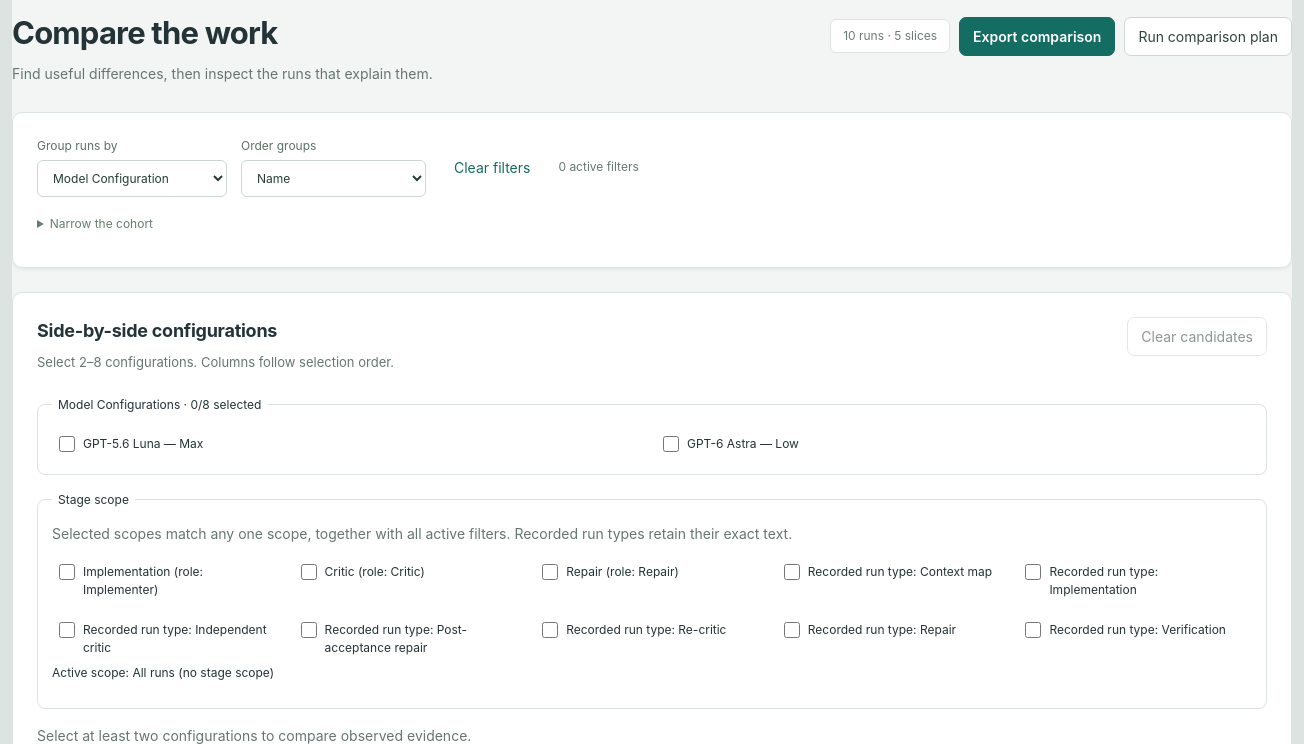
Test: analytics workspace controls and inspection › updates charts with composed filters and exports the exact date/outcome scope
Click the heading "Narrow the cohort" at point(101, 224), box [50, 216, 153, 231]
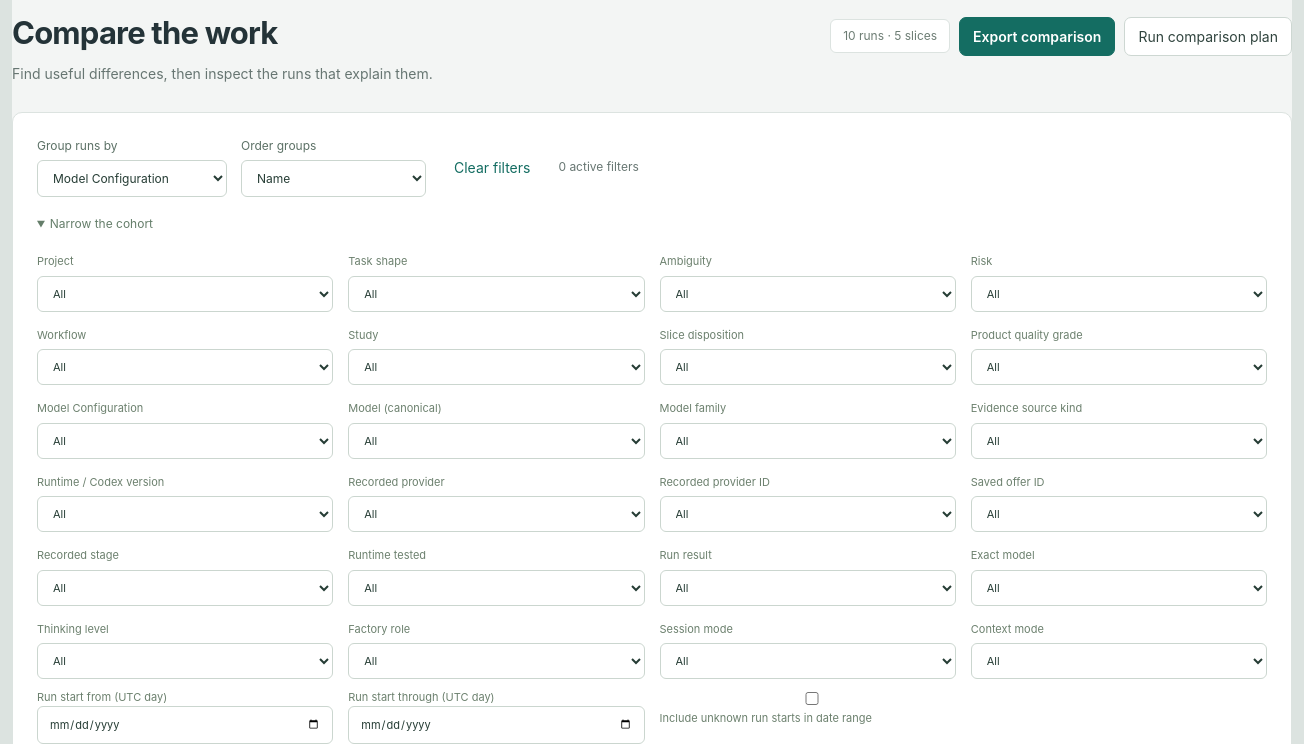
Select "No" in the dropdown named "Filter Runtime tested" at point(496, 588), box [348, 570, 645, 606]
Select "Implementer" in the dropdown named "Filter Factory role" at point(496, 661), box [348, 643, 645, 679]
(page scrolled)
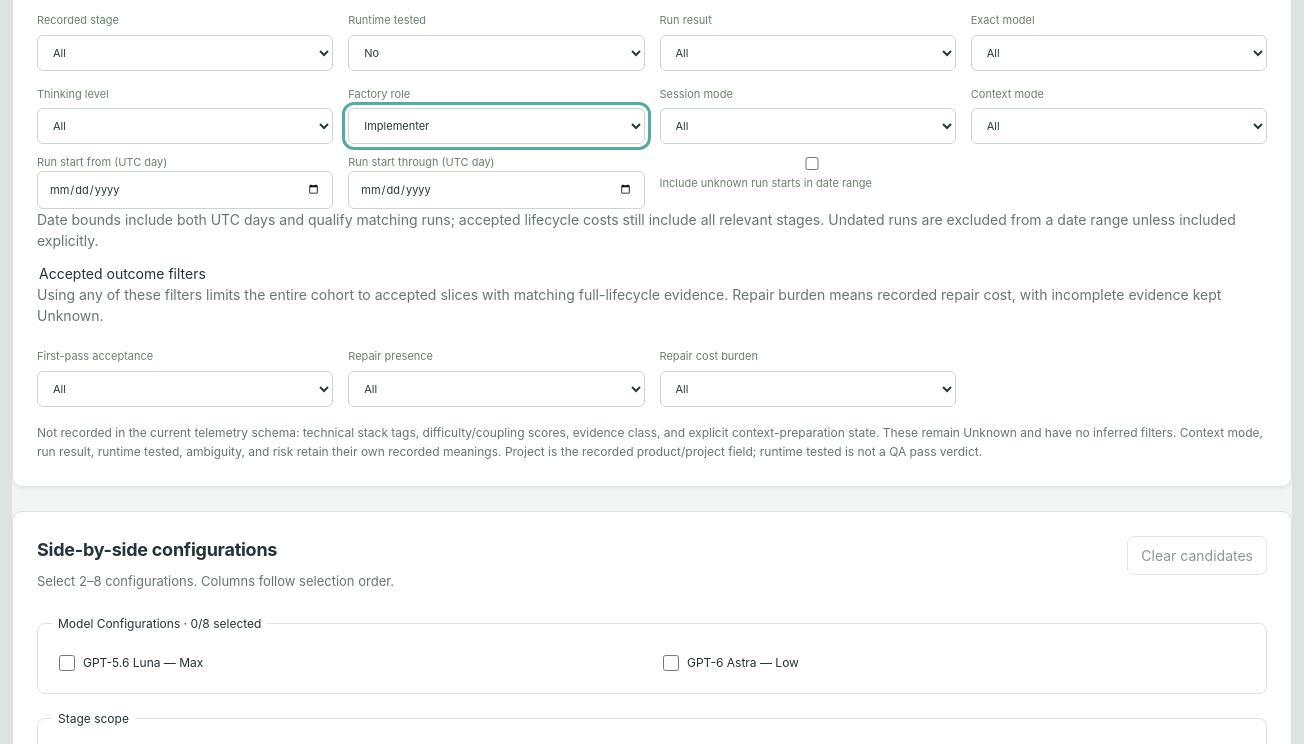
Select "Yes" in the dropdown named "Filter Repair presence" at point(496, 389), box [348, 371, 645, 407]
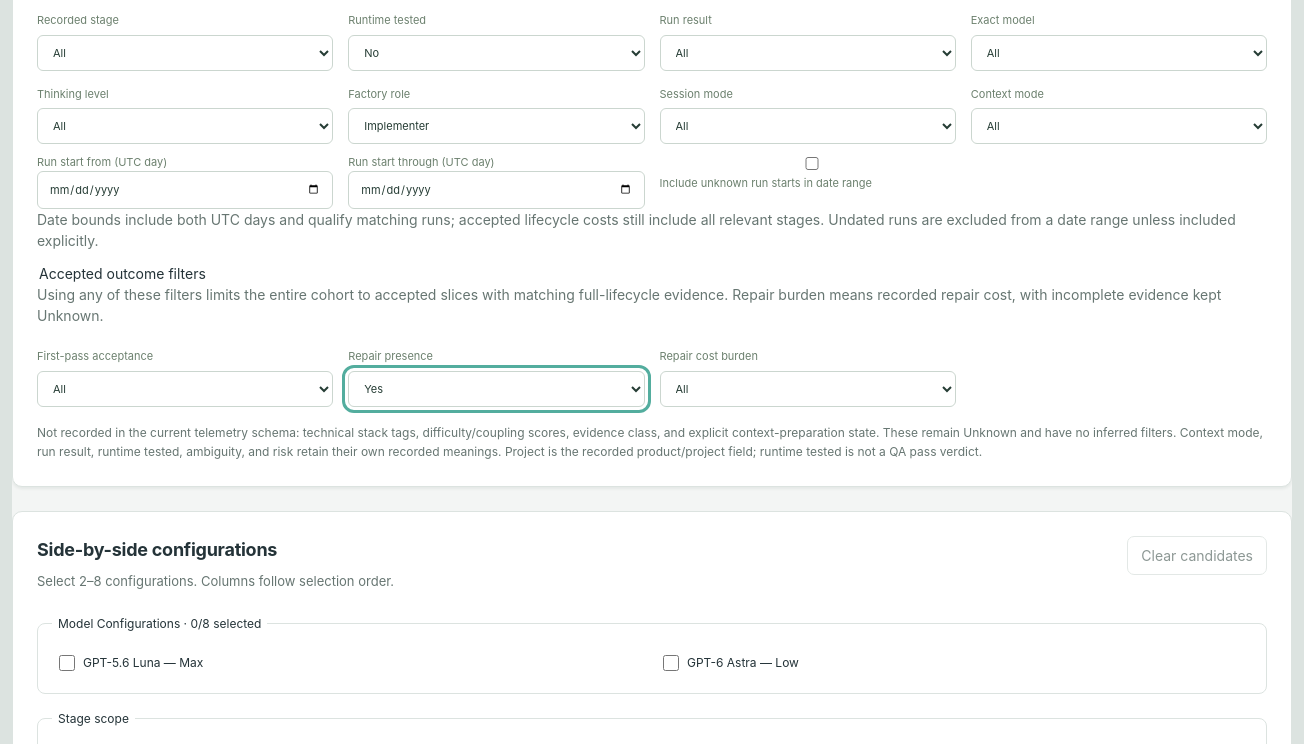
Type "2026-09-11" into the date field labelled "Run start from (UTC day)" at point(185, 190), box [37, 171, 333, 209]
Type "2026-09-11" into the date field labelled "Run start through (UTC day)" at point(496, 190), box [348, 171, 645, 209]
(page scrolled)
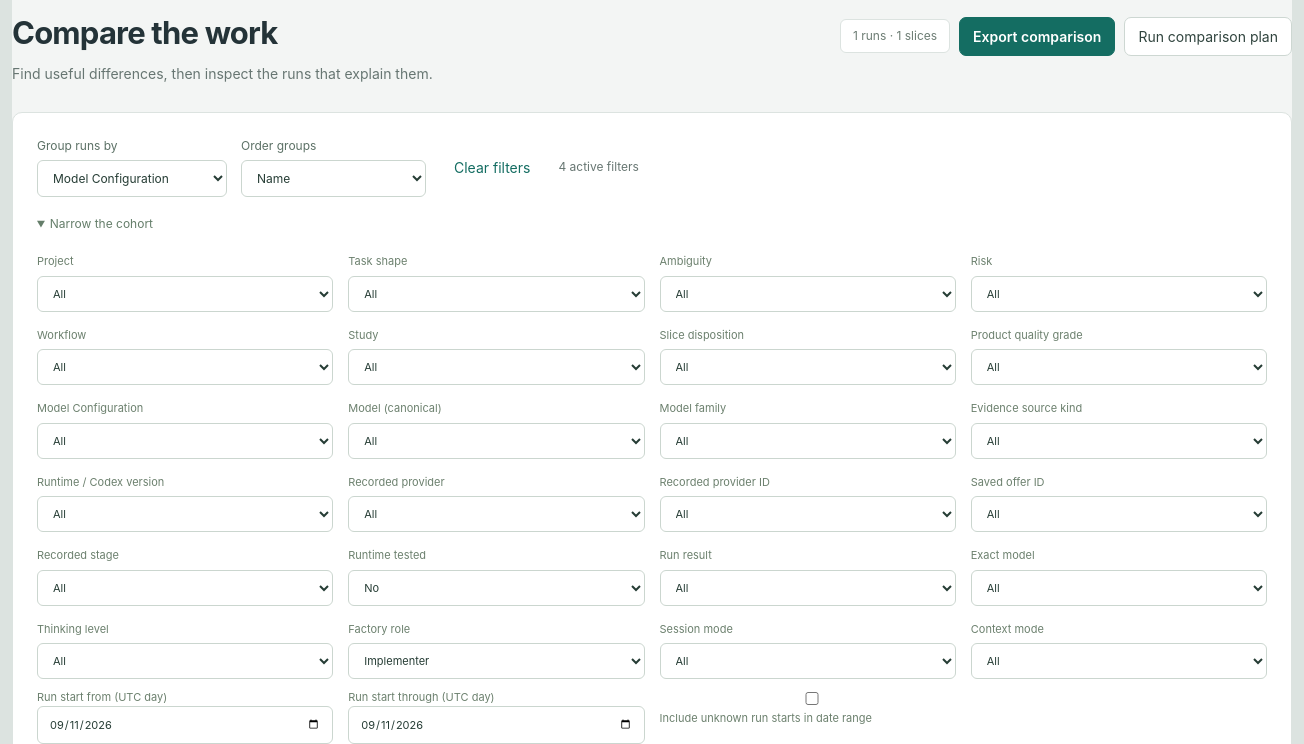
Click the button "Export comparison" at point(1037, 36), box [959, 17, 1115, 56]
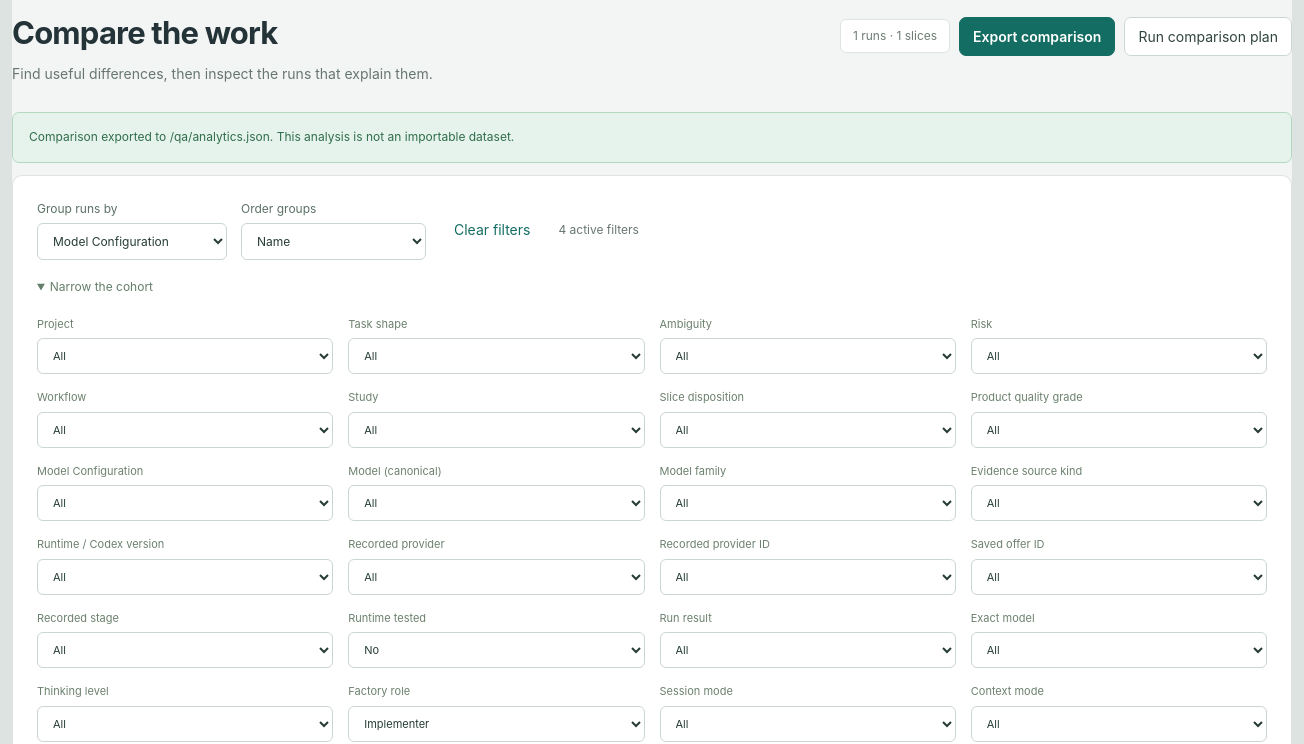
Click the button "Clear filters" at point(492, 230), box [440, 210, 544, 249]
(page scrolled)
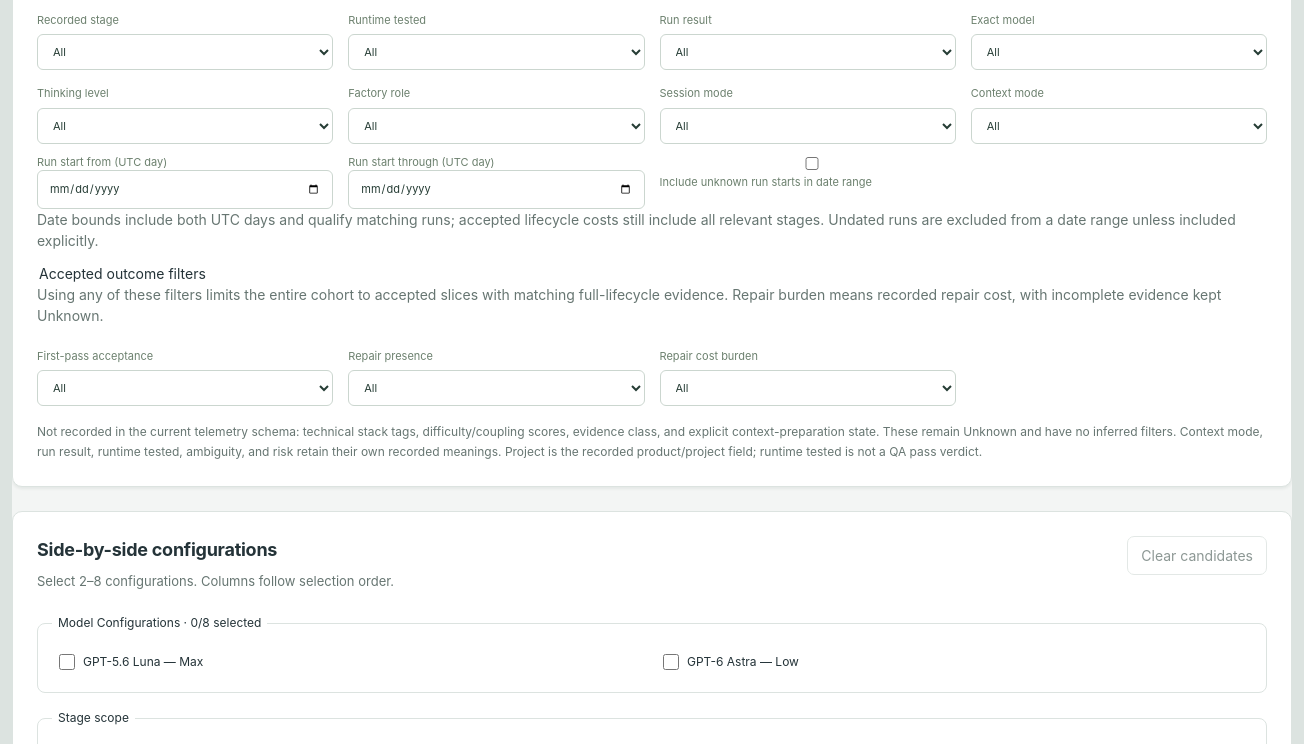
Check: the date field labelled "Run start from (UTC day)" is empty, box [37, 170, 333, 209]
